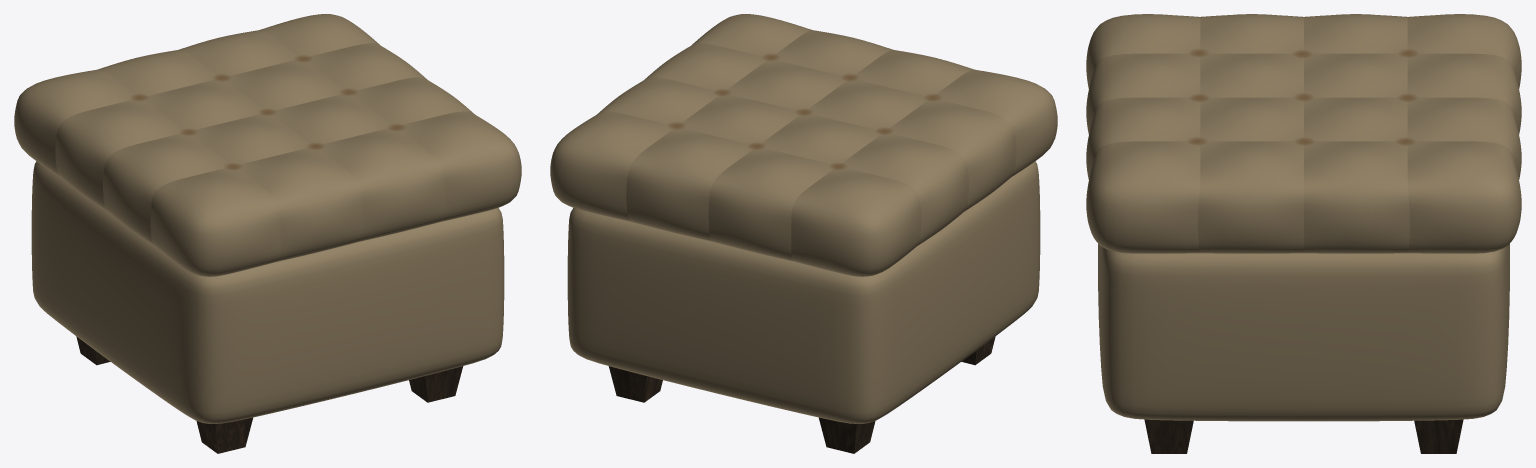
File: pouf6.glb
3 views of the same model, side by side, from view 1: azimuth 30°, elevation 25°; view 2: azimuth 150°, elevation 25°; view 3: azimuth 270°, elevation 25° (orthographic). The views are drawn at different scales.
Visible parts, largest first — view 1: Low.002; view 2: Low.002; view 3: Low.002.
Boxes of the visible parts, <box> form: Low.002: <box>14,14,521,453</box>; Low.002: <box>550,14,1057,453</box>; Low.002: <box>1086,14,1521,453</box>.
Bounding box in the file's own units: 210 × 160 × 210.
Materials: 1 (1 with a texture image).
